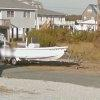Boat: (0, 22, 68, 75)
